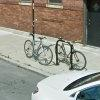Bicycle: (24, 29, 87, 69)
